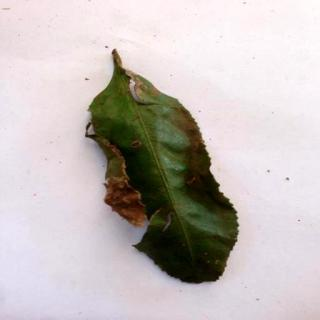Algal Leaf: (87, 50, 240, 284)
